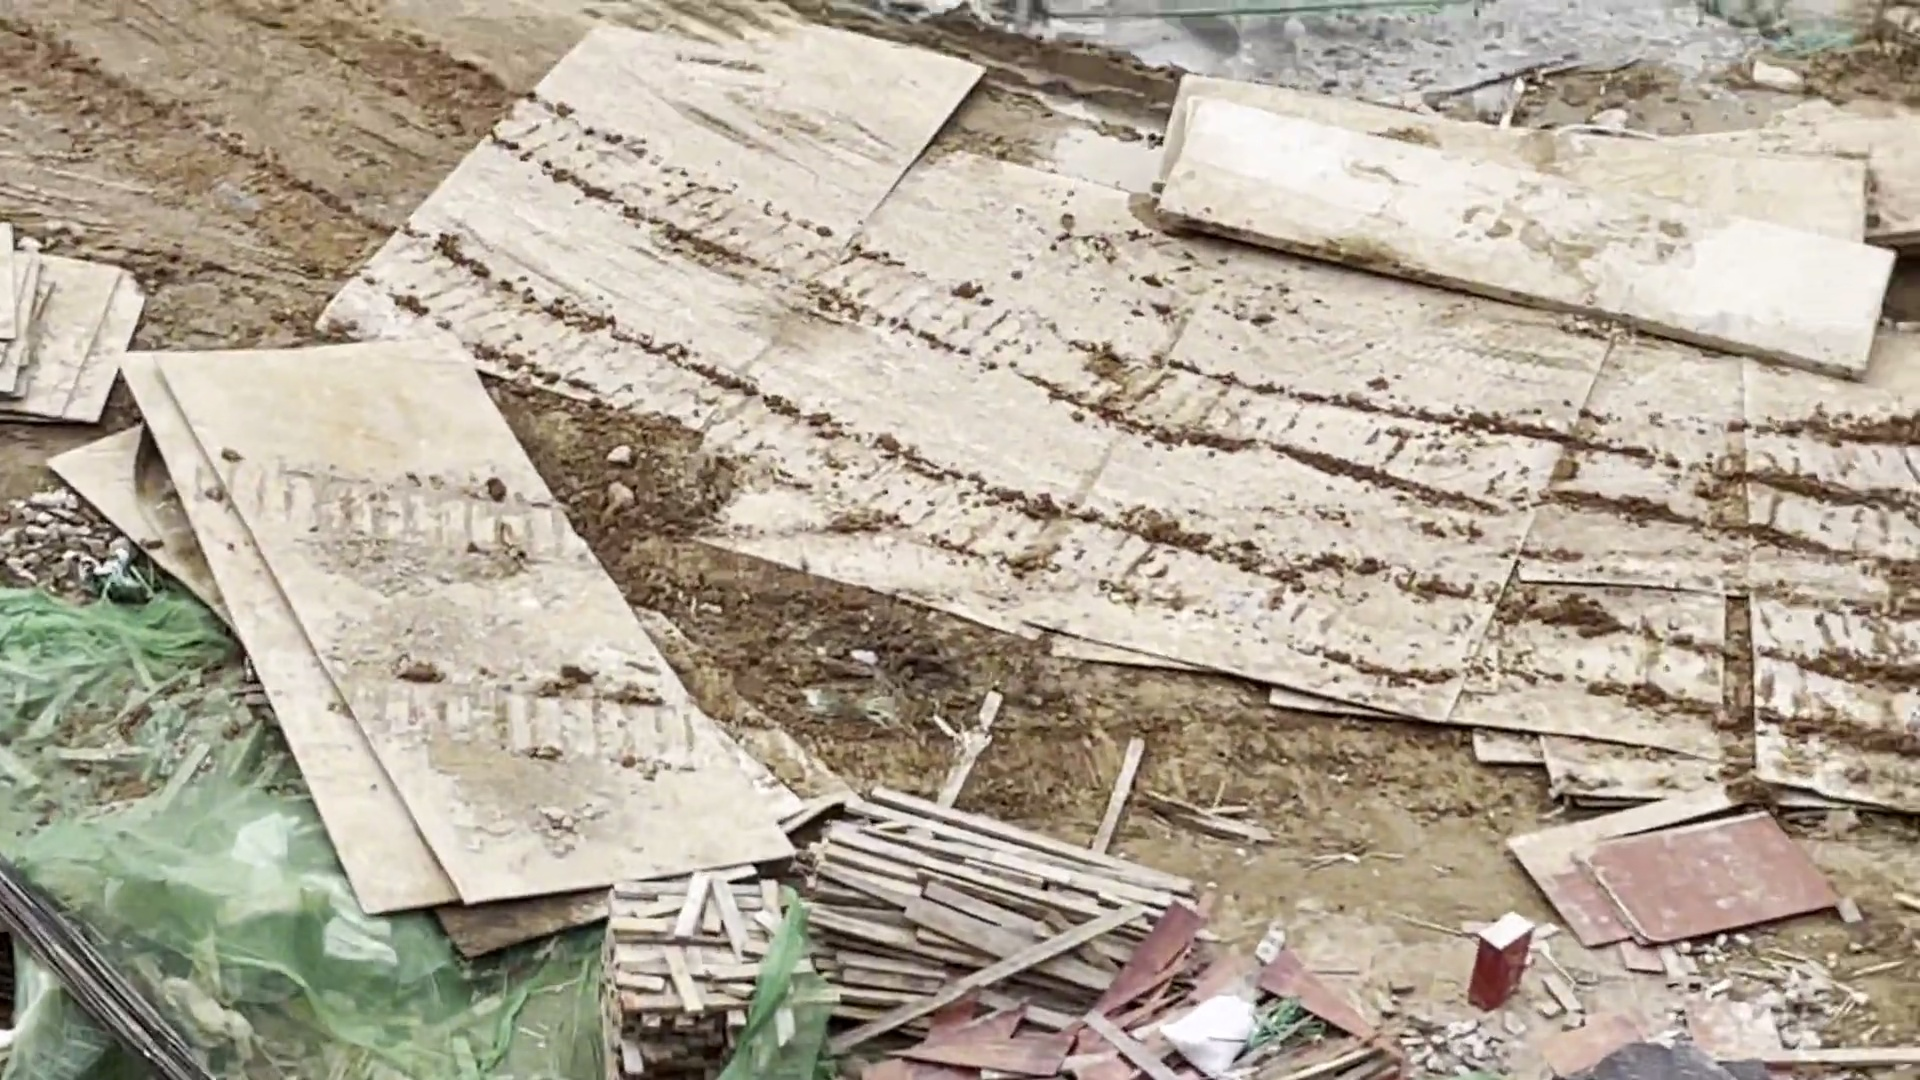wood: (632, 786, 1167, 1069)
